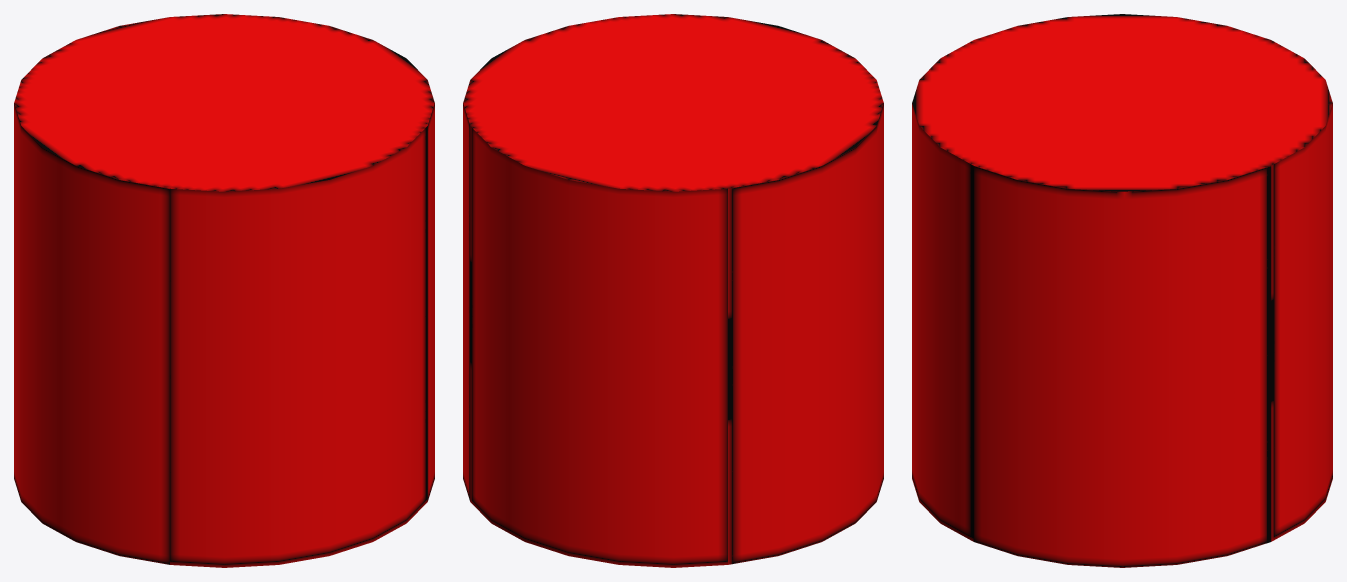
The model's file is Alniyat_Crew_2_1_Interior.obj.
The picture shows the model from 3 angles, left to right: view 1: azimuth 30°, elevation 25°; view 2: azimuth 150°, elevation 25°; view 3: azimuth 270°, elevation 25°; orthographic projection.
Parts seen in each view (by area): view 1: Alniyat_Crew_2_1_Interior; view 2: Alniyat_Crew_2_1_Interior; view 3: Alniyat_Crew_2_1_Interior.
Part boxes in pixels (x1,y1,x2,y2): Alniyat_Crew_2_1_Interior: (14,14,434,567); Alniyat_Crew_2_1_Interior: (463,14,883,567); Alniyat_Crew_2_1_Interior: (912,14,1332,567).
Size of the model in its own units: 1.85 by 1.83 by 1.85.
Materials: 1 (1 with a texture image).
